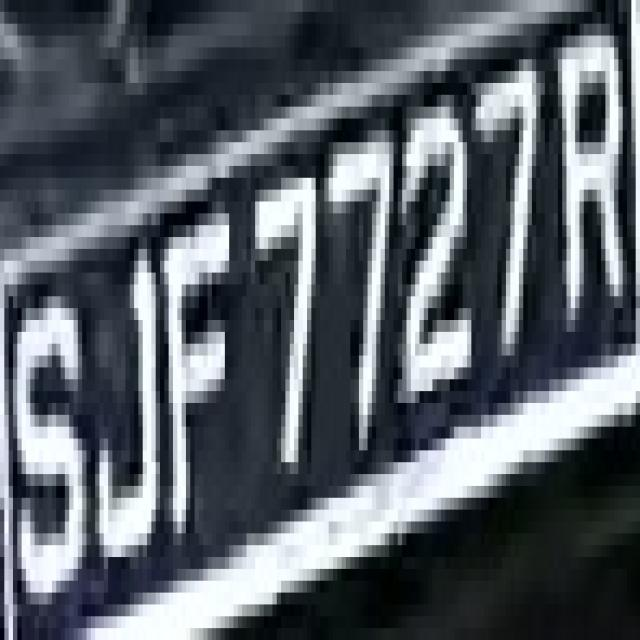2: (394, 71, 472, 439)
7: (307, 106, 407, 438), (463, 36, 545, 391), (242, 130, 320, 486)
F: (160, 178, 251, 533)
J: (82, 213, 164, 581)
R: (550, 12, 632, 367)
S: (17, 284, 95, 640)
